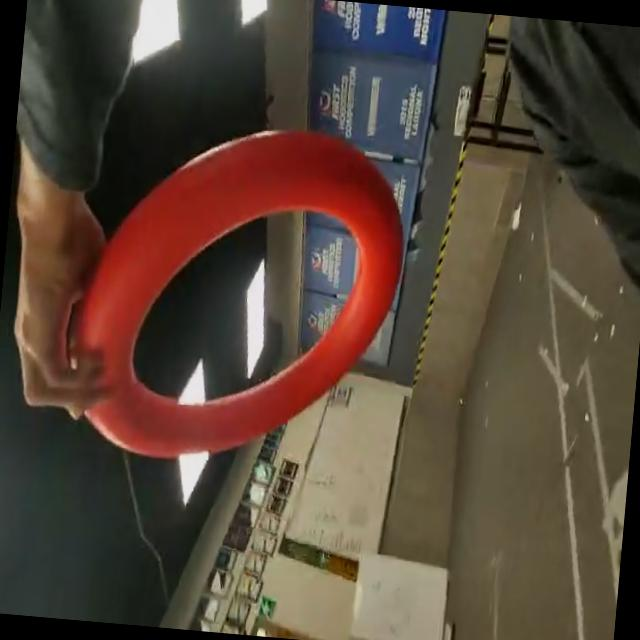note: (56, 102, 418, 482)
